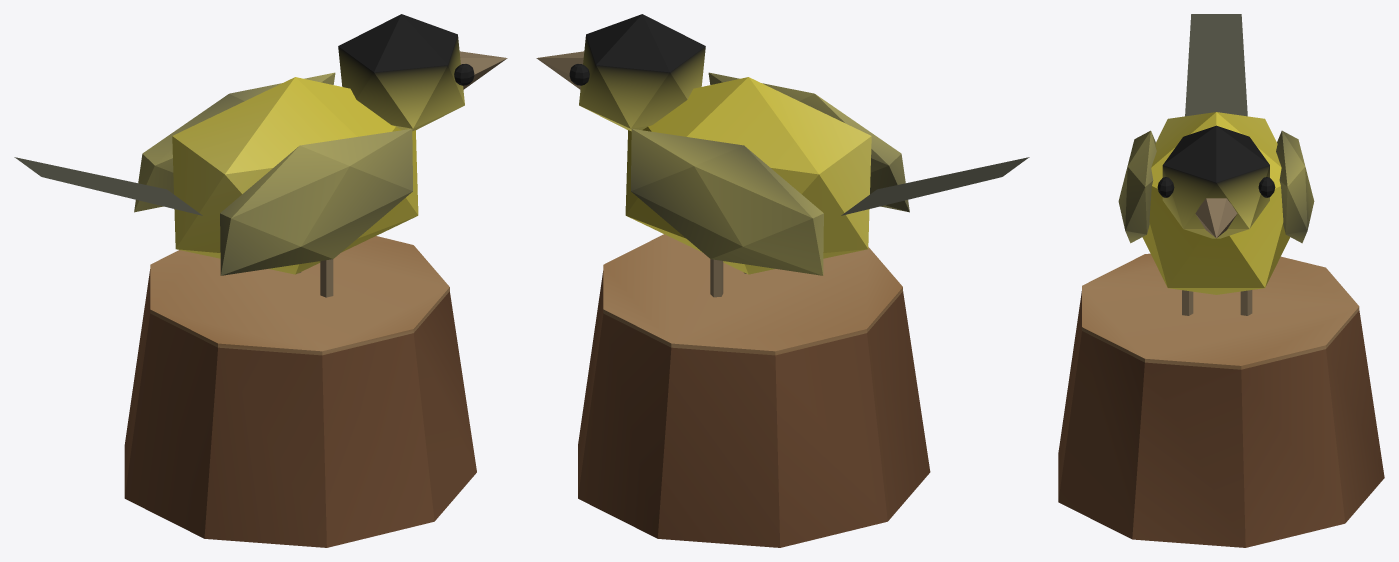
Rendered from forest_bird.glb.
3 views of the same model, side by side, from view 1: azimuth 30°, elevation 25°; view 2: azimuth 150°, elevation 25°; view 3: azimuth 270°, elevation 25° (orthographic). The views are drawn at different scales.
Visible parts, largest first — view 1: Bird; view 2: Bird; view 3: Bird.
Boxes of the visible parts, left/top/right/bottom form: Bird: left=14, top=14, right=507, bottom=547; Bird: left=536, top=14, right=1029, bottom=547; Bird: left=1058, top=14, right=1384, bottom=547.
Size of the model in its own units: 1.22 by 1.05 by 0.7759.
